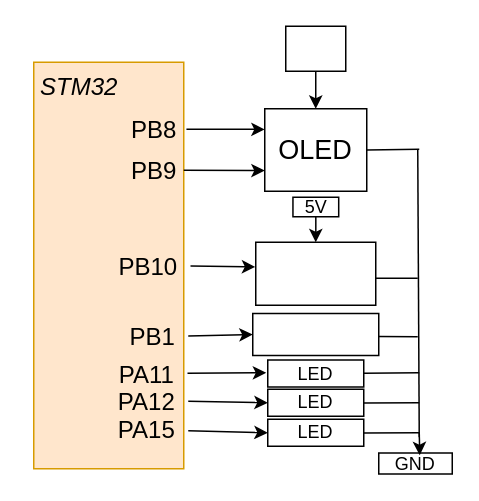
Some shapes in this 479 by 501 pixel diagram are drawn without their labels. The shapes that lost their labels are listed below. From the top down, each one's centre as x and y in pixels, then its label:
At [315,48]: "3.3V".
At [315,273]: "SG90舵机".
At [315,334]: "有源蜂鸣器".
